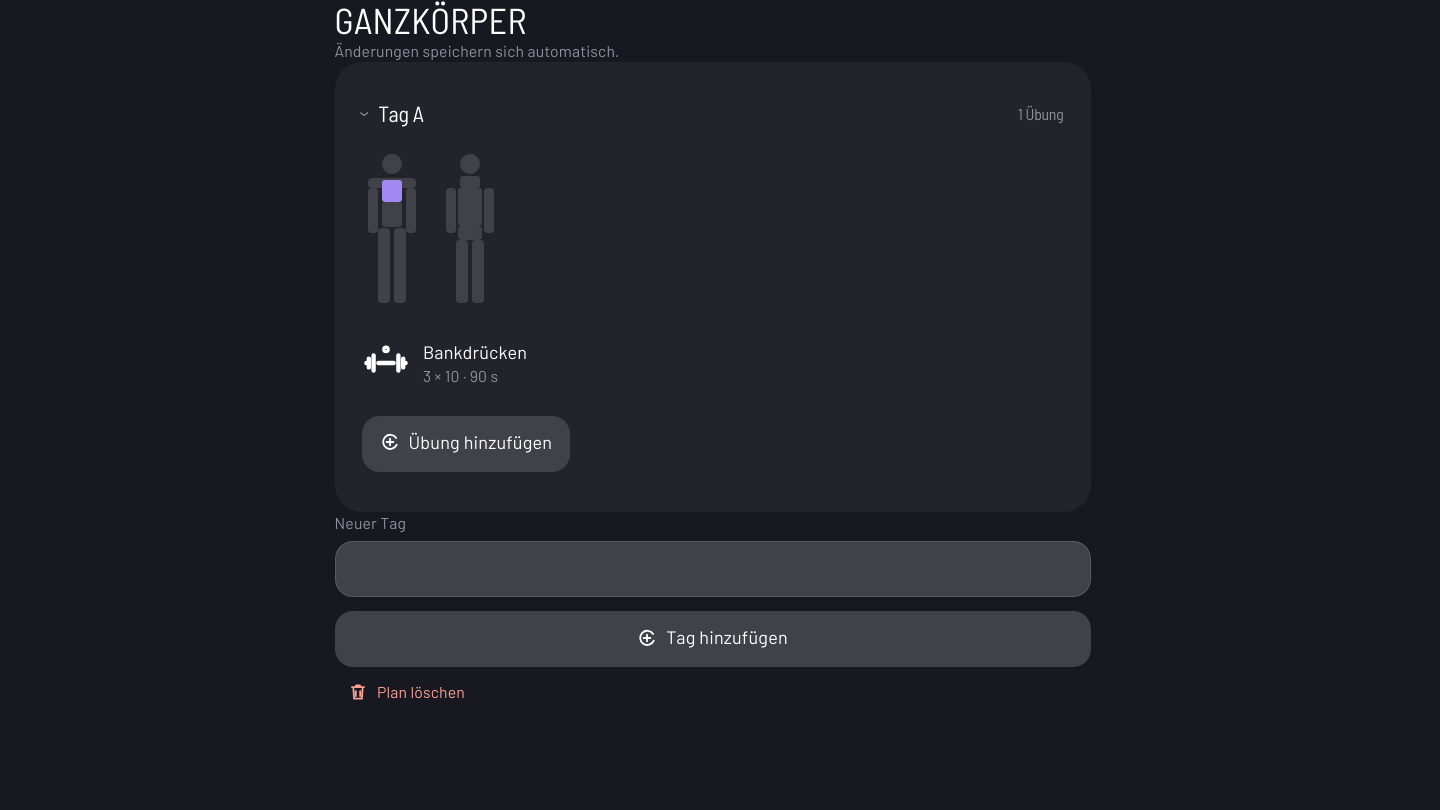
Test: TrainingPlanEditPage › shows a message instead of an empty list when the search matches nothing
The image size is (1440, 810).
Check: the text "Tag A" is shown, box [378, 100, 424, 128]
Click the button "Übung hinzufügen" at point(466, 444), box [362, 416, 570, 472]
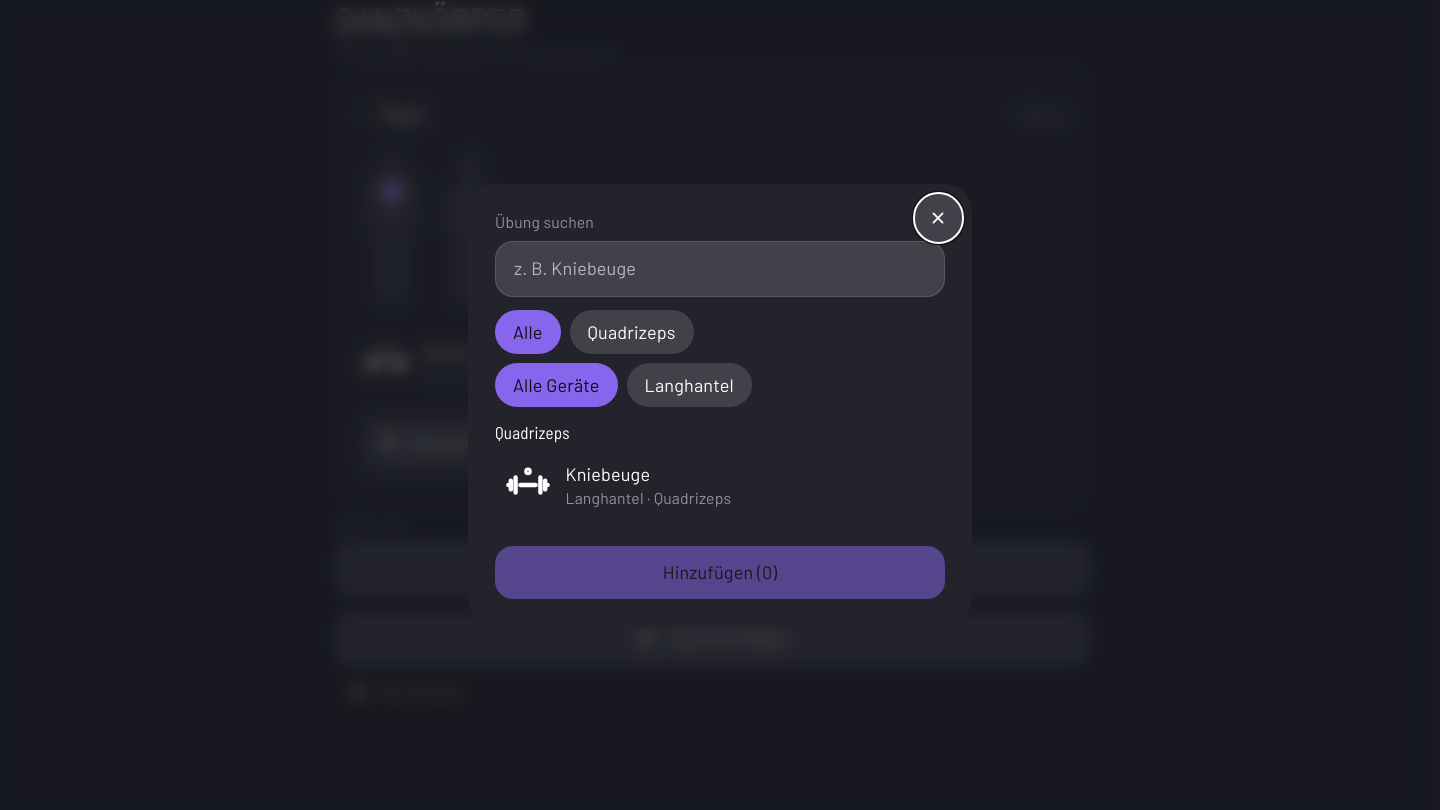
Type "xyz" into the field labelled "Übung suchen" at point(720, 269), box [495, 241, 945, 297]
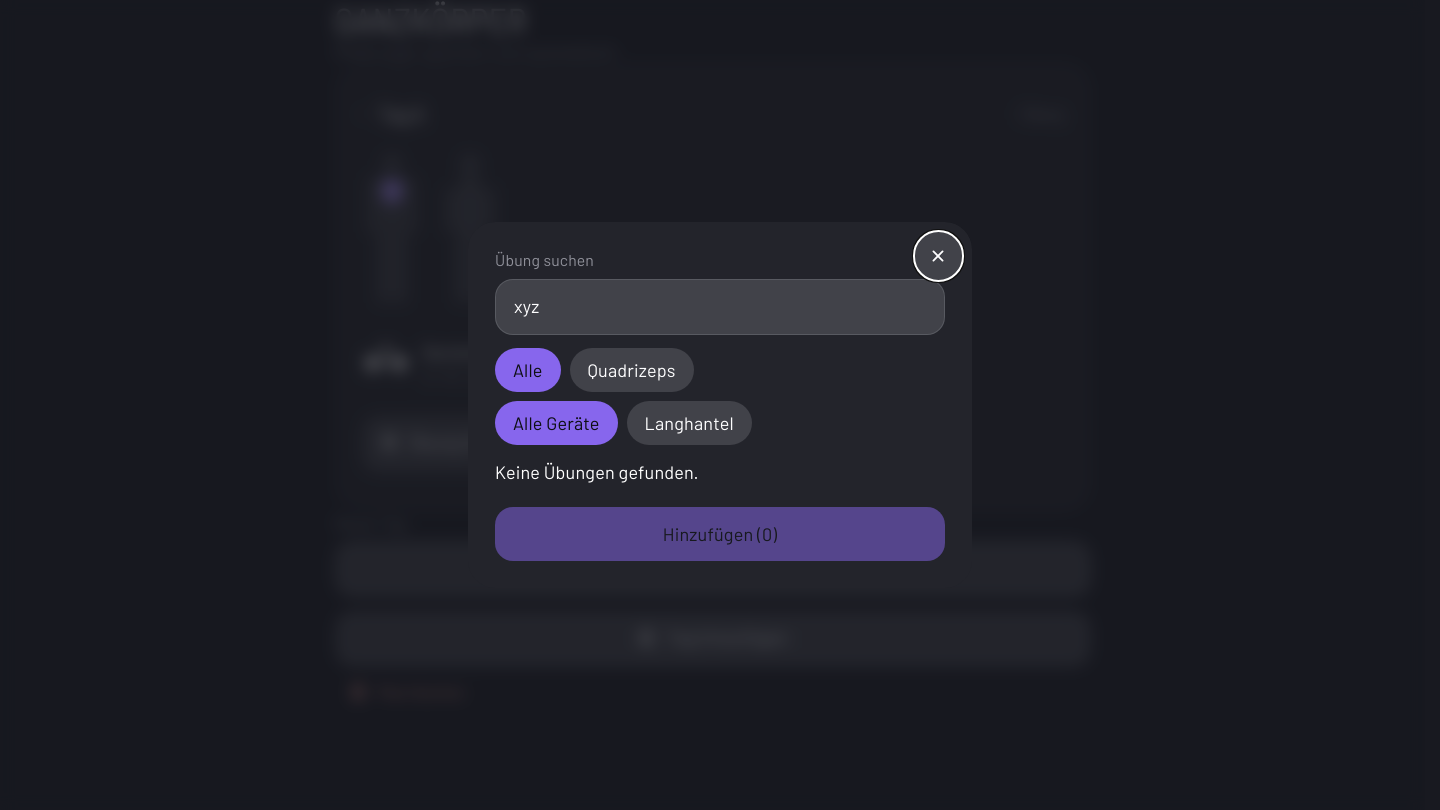
Check: the text "Keine Übungen gefunden." is shown, box [495, 461, 699, 483]
